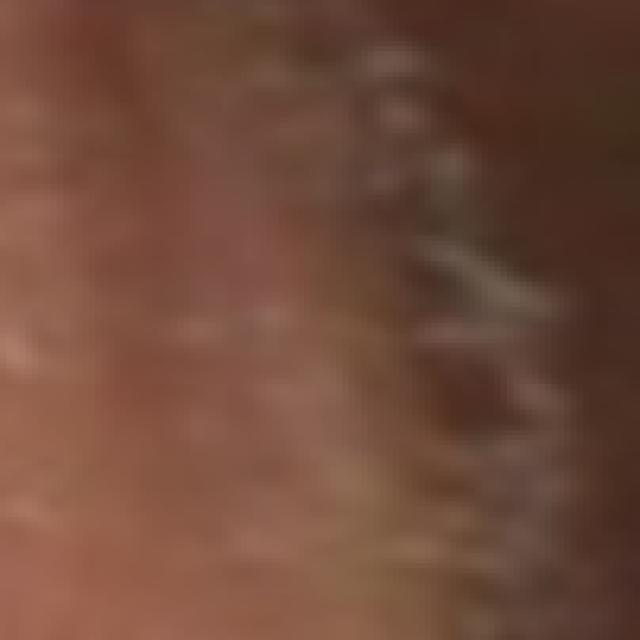blackhead: (349, 63, 465, 150)
